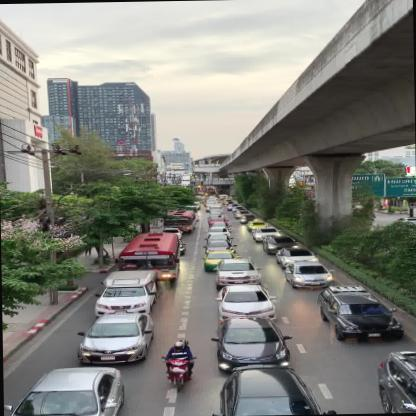bus: (115, 231, 180, 287)
car: (212, 364, 338, 416), (3, 366, 122, 415), (318, 284, 402, 344), (213, 316, 290, 374), (75, 312, 156, 366), (96, 268, 160, 314), (214, 284, 280, 318), (287, 260, 336, 288), (213, 258, 260, 287), (276, 247, 318, 266), (201, 251, 243, 270), (262, 234, 298, 254)
motorcycle: (162, 339, 194, 391)
